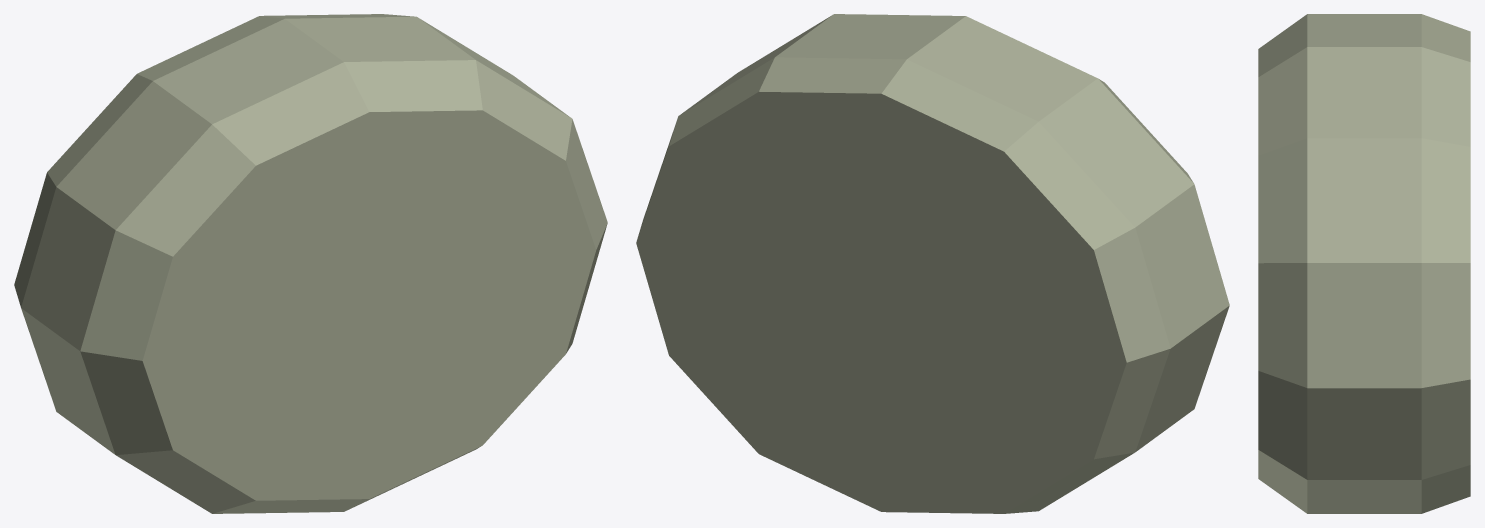
Rendered from centipede_segment_6.obj.
3 renders of one model, left to right at view 1: azimuth 30°, elevation 25°; view 2: azimuth 150°, elevation 25°; view 3: azimuth 270°, elevation 25°, orthographic. The views are drawn at different scales.
Parts seen in each view (by area): view 1: centipede_segment_6; view 2: centipede_segment_6; view 3: centipede_segment_6.
Boxes of the visible parts, x1,y1,x2,y2 form: centipede_segment_6: [14, 14, 607, 513]; centipede_segment_6: [636, 14, 1229, 513]; centipede_segment_6: [1258, 14, 1470, 513].
Size of the model in its own units: 1.08 by 0.88 by 0.39.
